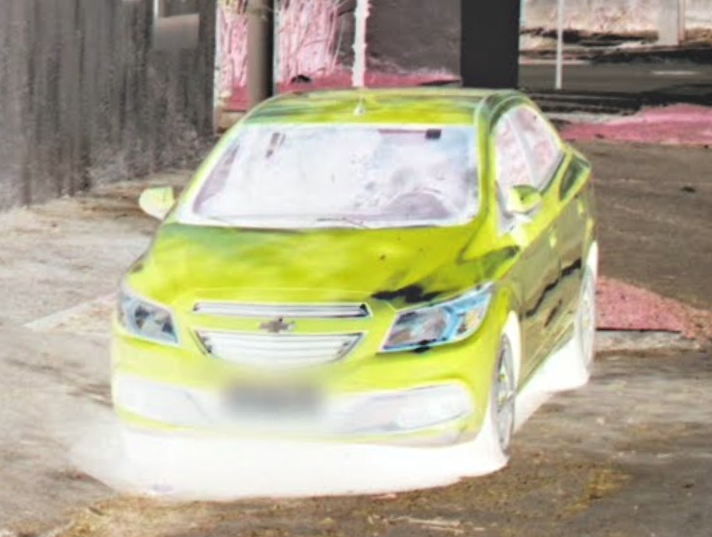car: (100, 71, 611, 475)
